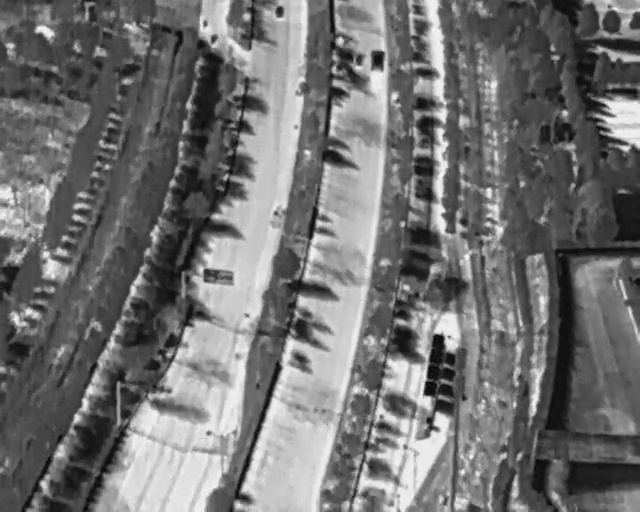Car: (355, 52, 363, 67), (276, 5, 284, 18)
OtherVehicle: (372, 48, 385, 72)
